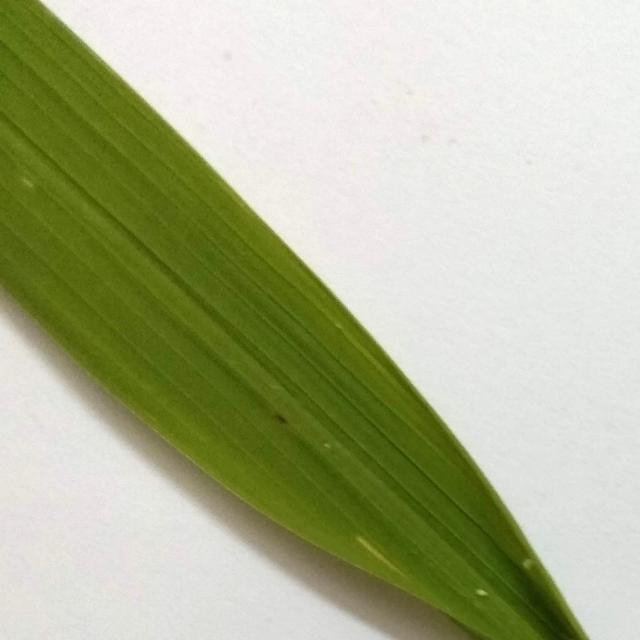Rice_Healthy: (0, 0, 587, 640)
